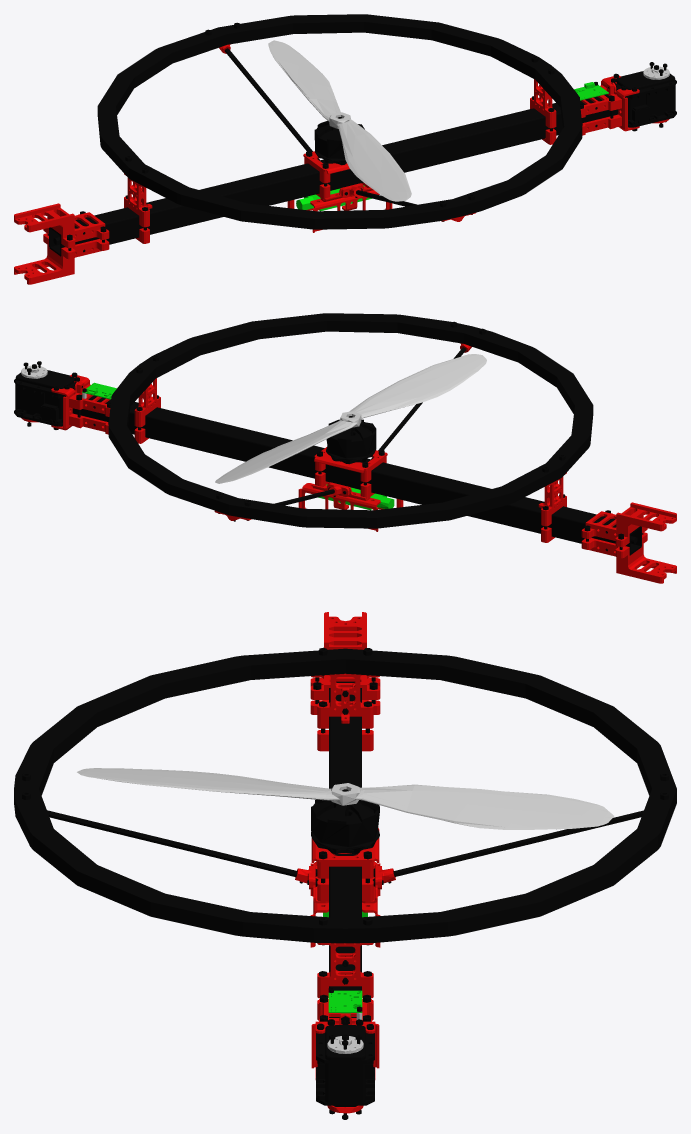
Rendered from general_link.dae.
3 views of the same model, one above another, from view 1: azimuth 30°, elevation 25°; view 2: azimuth 150°, elevation 25°; view 3: azimuth 270°, elevation 25° (orthographic). The views are drawn at different scales.
Parts seen in each view (by area): view 1: General_Link_Black_Part, General_Link_Red_Part, General_Link_Grey_Part, General_Link_Green_Part; view 2: General_Link_Black_Part, General_Link_Red_Part, General_Link_Grey_Part, General_Link_Green_Part; view 3: General_Link_Black_Part, General_Link_Grey_Part, General_Link_Red_Part, General_Link_Green_Part.
Part boxes in pixels (box(x1,y1,x2,y2)): General_Link_Black_Part: box(47, 14, 676, 256); General_Link_Red_Part: box(14, 44, 669, 284); General_Link_Grey_Part: box(268, 40, 669, 201); General_Link_Green_Part: box(296, 82, 608, 211); General_Link_Black_Part: box(14, 313, 643, 555); General_Link_Red_Part: box(21, 343, 676, 583); General_Link_Grey_Part: box(21, 354, 486, 483); General_Link_Green_Part: box(82, 382, 394, 510); General_Link_Black_Part: box(14, 647, 676, 1119); General_Link_Grey_Part: box(77, 768, 613, 1053); General_Link_Red_Part: box(295, 612, 395, 1113); General_Link_Green_Part: box(323, 911, 367, 1015).
Size of the model in its own units: 0.6145 by 0.4 by 0.0912.
